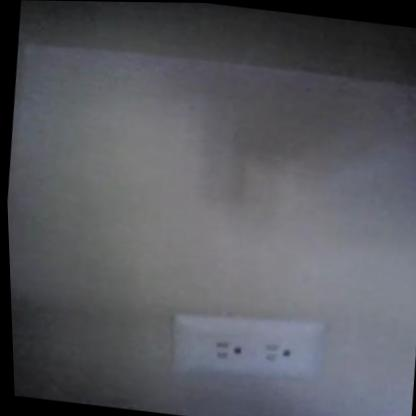OUTLET: (168, 306, 328, 388)
